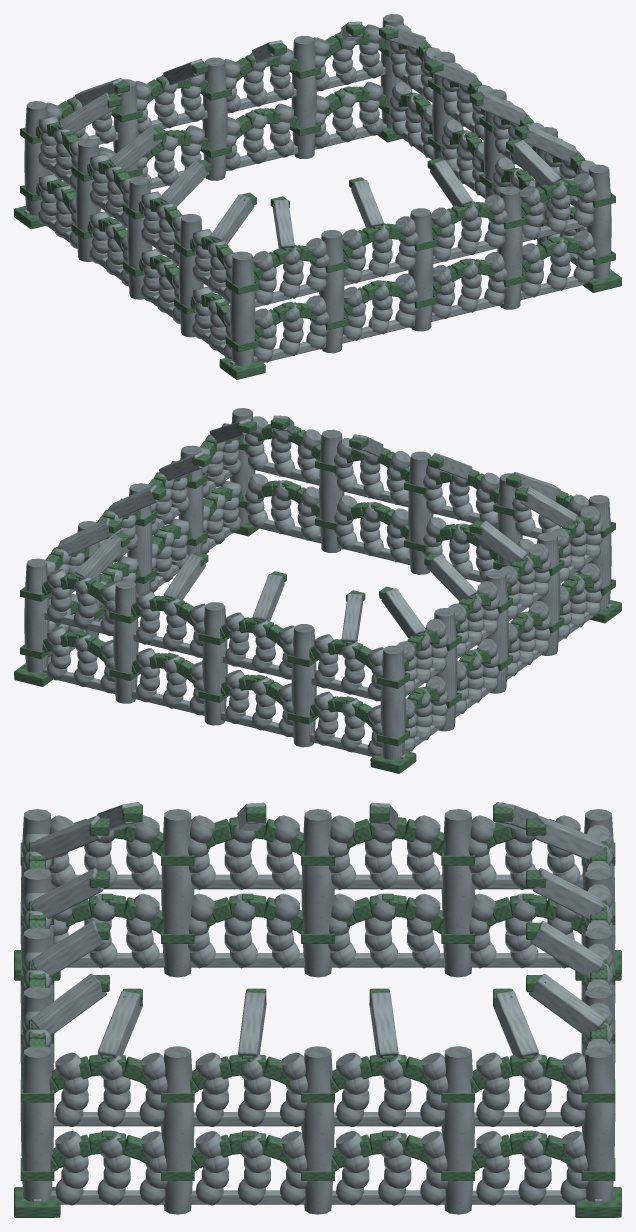
3 views of the same model, one above another, from view 1: azimuth 30°, elevation 25°; view 2: azimuth 150°, elevation 25°; view 3: azimuth 270°, elevation 25° (orthographic). The views are drawn at different scales.
Parts seen in each view (by area): view 1: Tier 0 side 0 post 0, Tier 0 side 2 post 1, Tier 0 side 2 post 2, Tier 0 side 0 post 3, Tier 0 side 0 post 2, Tier 0 side 0 post 1, Tier 0 side 1 post 0, Tier 0 side 3 post 2, Tier 0 side 3 post 3, Tier 0 side 3 post 1, Tier 0 side 3 post 0, Tier 0 side 2 post 3 (+17 smaller); view 2: Tier 0 side 3 post 0, Tier 0 side 2 post 2, Tier 0 side 2 post 1, Tier 0 side 2 post 3, Tier 0 side 2 post 0, Tier 0 side 0 post 3, Tier 0 side 0 post 2, Tier 0 side 3 post 2, Tier 0 side 3 post 1, Tier 0 side 3 post 3, Tier 0 side 1 post 1, Tier 0 side 1 post 2 (+17 smaller); view 3: Tier 0 side 1 post 2, Tier 0 side 1 post 3, Tier 0 side 3 post 2, Tier 0 side 3 post 3, Tier 0 side 1 post 1, Tier 0 side 3 post 1, Tier 0 side 1 post 0, Tier 0 side 2 post 0, Crown petal 2-0, Crown petal 0-3, Crown petal 2-1, Crown petal 0-2 (+47 smaller).
Boxes of the visible parts, x1=… form: Tier 0 side 0 post 0: x1=230, y1=251, x2=255, y2=365; Tier 0 side 2 post 1: x1=291, y1=35, x2=316, y2=158; Tier 0 side 2 post 2: x1=202, y1=57, x2=227, y2=180; Tier 0 side 0 post 3: x1=497, y1=186, x2=522, y2=309; Tier 0 side 0 post 2: x1=408, y1=208, x2=433, y2=331; Tier 0 side 0 post 1: x1=319, y1=230, x2=344, y2=353; Tier 0 side 1 post 0: x1=586, y1=164, x2=611, y2=278; Tier 0 side 3 post 2: x1=127, y1=176, x2=152, y2=299; Tier 0 side 3 post 3: x1=178, y1=214, x2=203, y2=337; Tier 0 side 3 post 1: x1=75, y1=138, x2=100, y2=261; Tier 0 side 3 post 0: x1=24, y1=101, x2=49, y2=215; Tier 0 side 2 post 3: x1=113, y1=79, x2=138, y2=171; Tier 0 side 3 post 0: x1=380, y1=645, x2=405, y2=759; Tier 0 side 2 post 2: x1=202, y1=602, x2=227, y2=725; Tier 0 side 2 post 1: x1=113, y1=580, x2=138, y2=703; Tier 0 side 2 post 3: x1=291, y1=624, x2=316, y2=747; Tier 0 side 2 post 0: x1=24, y1=558, x2=49, y2=672; Tier 0 side 0 post 3: x1=319, y1=429, x2=344, y2=552; Tier 0 side 0 post 2: x1=408, y1=451, x2=433, y2=574; Tier 0 side 3 post 2: x1=485, y1=570, x2=508, y2=693; Tier 0 side 3 post 1: x1=434, y1=608, x2=457, y2=731; Tier 0 side 3 post 3: x1=537, y1=532, x2=560, y2=655; Tier 0 side 1 post 1: x1=178, y1=445, x2=203, y2=555; Tier 0 side 1 post 2: x1=127, y1=483, x2=152, y2=594; Tier 0 side 1 post 2: x1=301, y1=1046, x2=334, y2=1214; Tier 0 side 1 post 3: x1=441, y1=1046, x2=474, y2=1214; Tier 0 side 3 post 2: x1=301, y1=809, x2=334, y2=977; Tier 0 side 3 post 3: x1=161, y1=809, x2=194, y2=977; Tier 0 side 1 post 1: x1=161, y1=1046, x2=194, y2=1214; Tier 0 side 3 post 1: x1=441, y1=809, x2=474, y2=977; Tier 0 side 1 post 0: x1=21, y1=1046, x2=53, y2=1201; Tier 0 side 2 post 0: x1=582, y1=1046, x2=614, y2=1201; Crown petal 2-0: x1=529, y1=973, x2=605, y2=1038; Crown petal 0-3: x1=30, y1=973, x2=106, y2=1035; Crown petal 2-1: x1=530, y1=921, x2=604, y2=979; Crown petal 0-2: x1=32, y1=921, x2=105, y2=977.
Bounding box in the file's own units: 1.95 × 0.6802 × 1.95.
2 materials, 2 textured.
